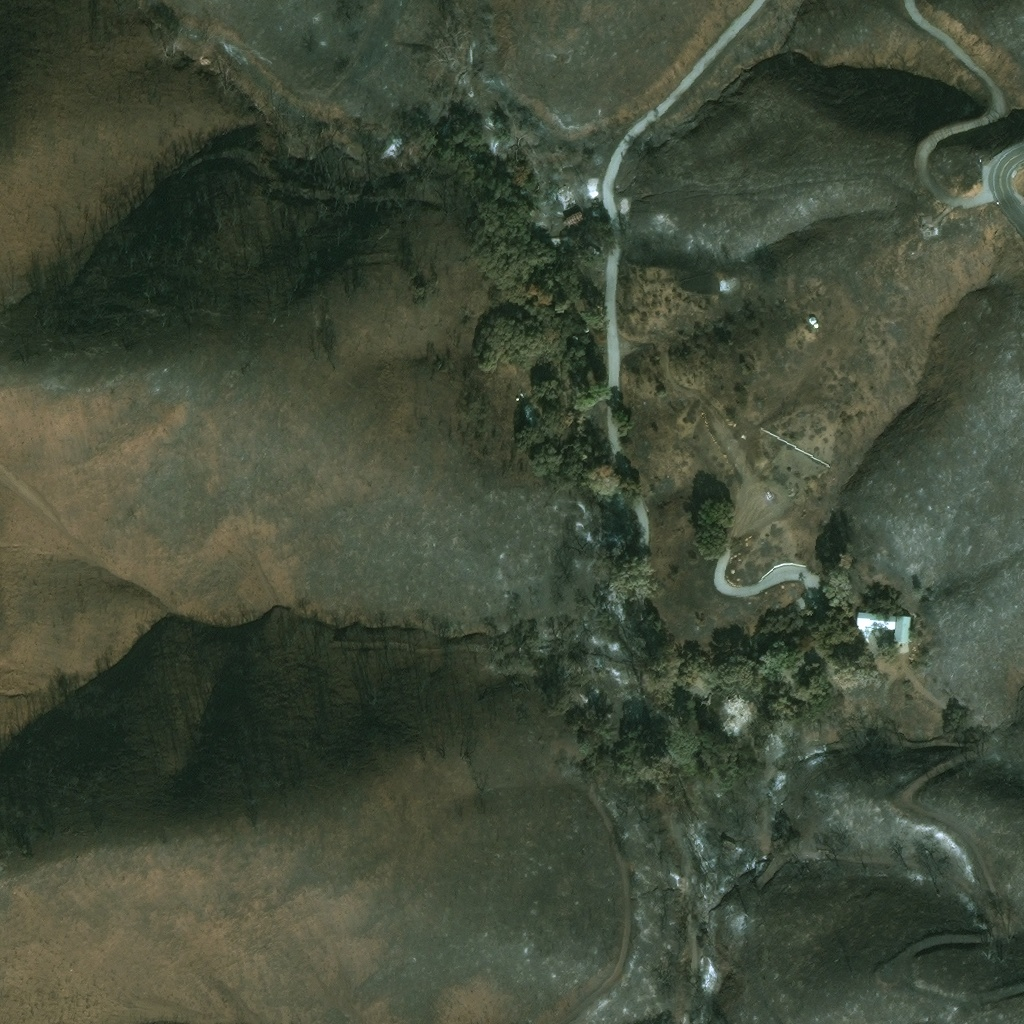0 no-damage: (855, 609, 895, 630), (894, 613, 910, 640)
3 destroyed: (554, 178, 579, 210), (520, 399, 536, 424), (563, 209, 584, 226), (481, 111, 498, 128), (548, 235, 565, 243), (587, 197, 599, 207), (922, 226, 932, 234), (809, 313, 817, 321), (919, 220, 927, 226), (813, 321, 819, 325)
